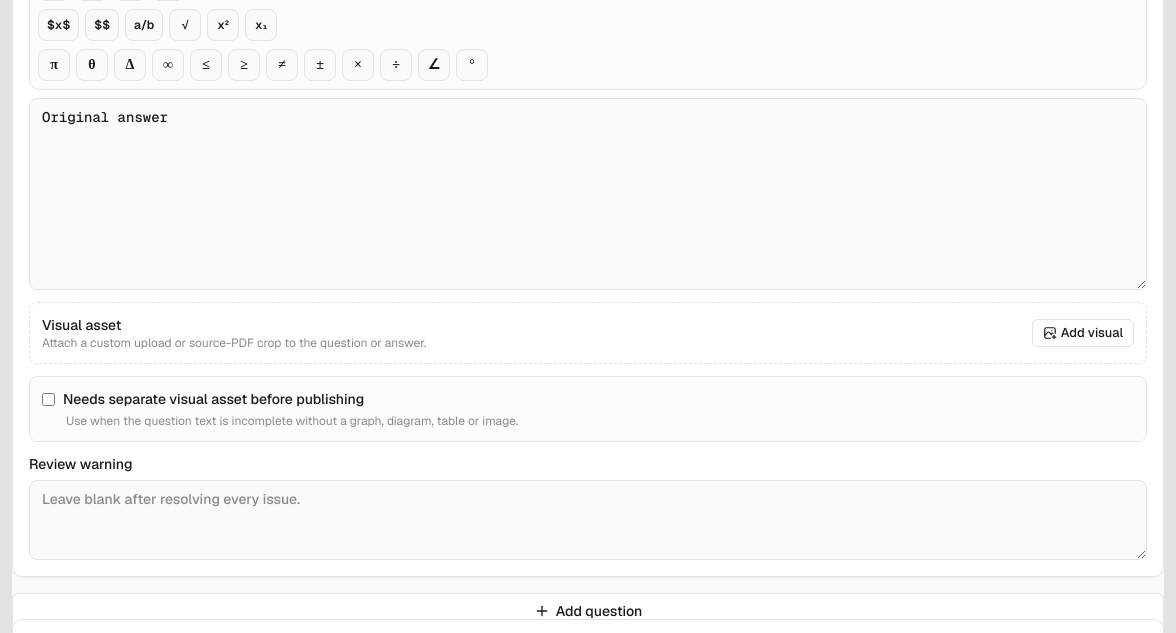
Test: exam review editor › keeps visual upload tools collapsed until requested
(page scrolled)
Check: the text "Upload visual" is not shown
Click the button "Add visual". click: (1083, 333)
box: [1032,319,1134,347]
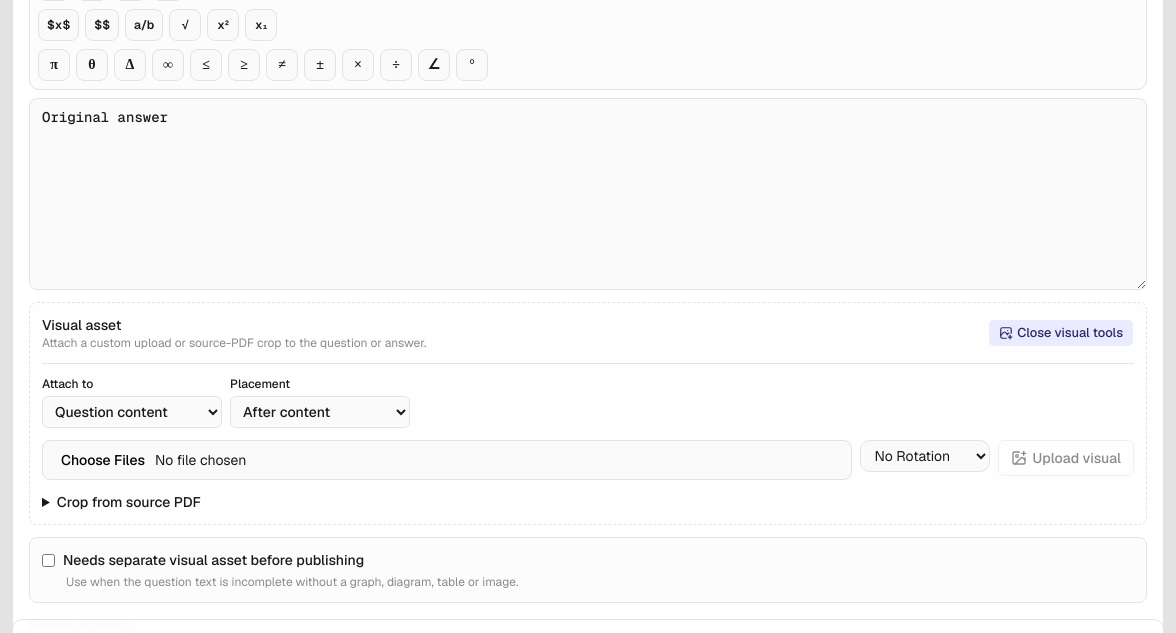
Check: the button "Upload visual" is shown, box [998,440,1134,476]
Check: the heading "Crop from source PDF" is shown, box [57,493,201,511]
